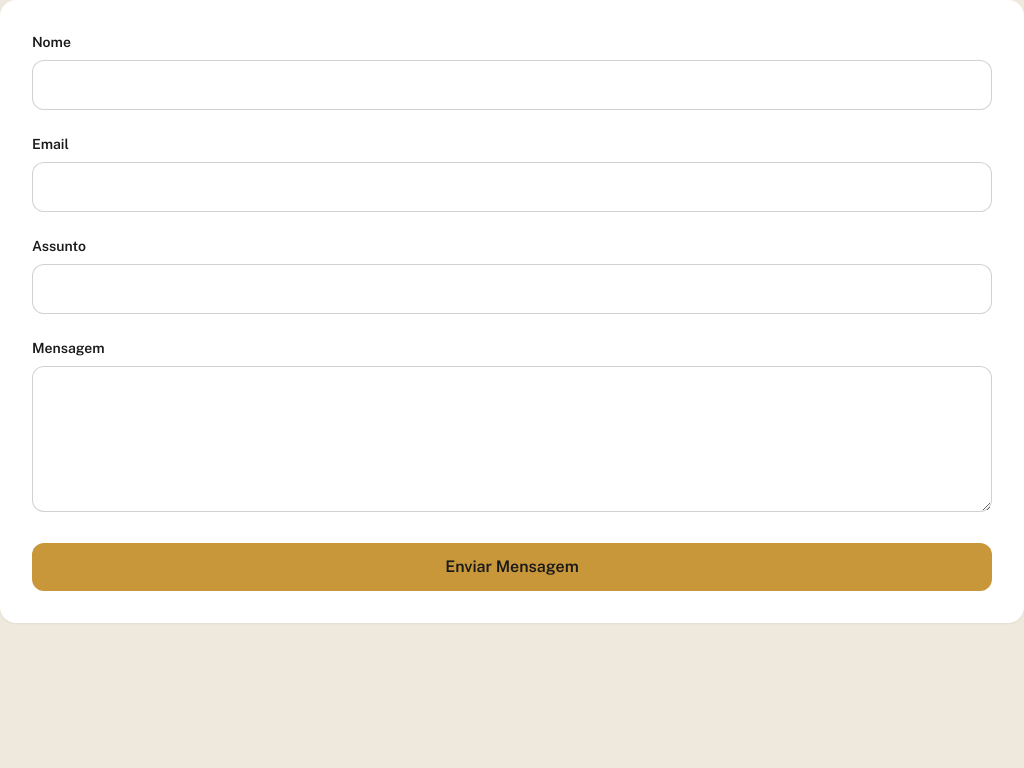
Test case: ContactForm › shows error message on failed submission
This screenshot has width=1024, height=768.
Type "Test User" into the field labelled "Nome".
click(512, 85); type("Test User")  # box x1=32 y1=60 x2=992 y2=110
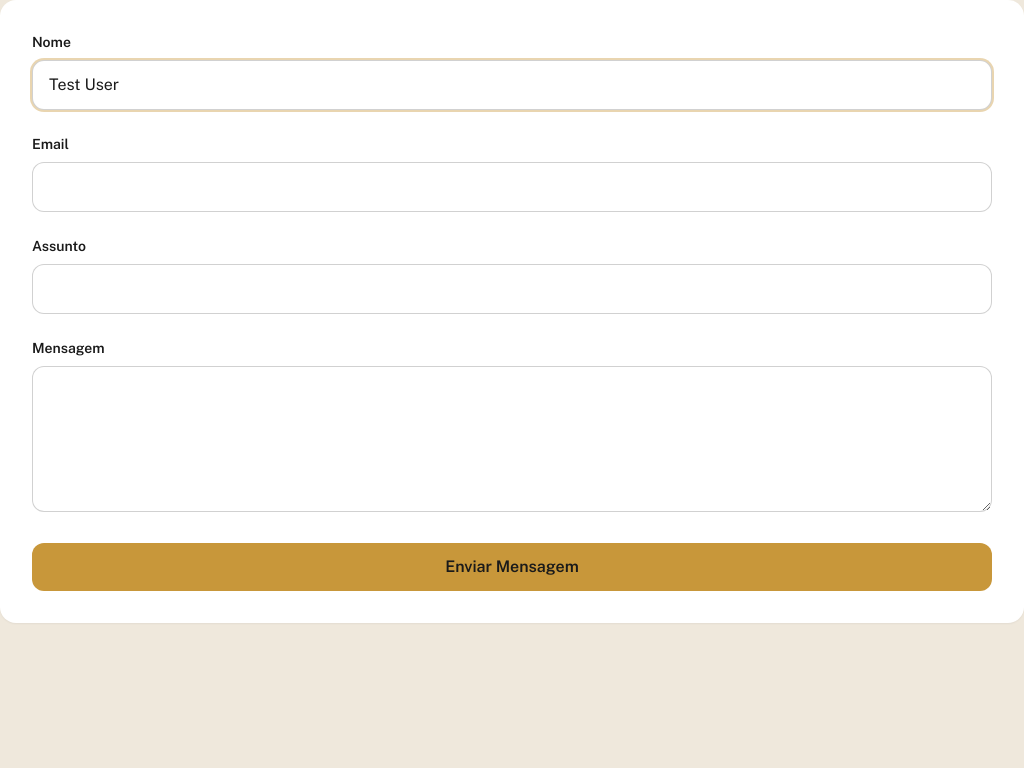
Type "test@example.com" into the field labelled "Email".
click(512, 187); type("test@example.com")  # box x1=32 y1=162 x2=992 y2=212
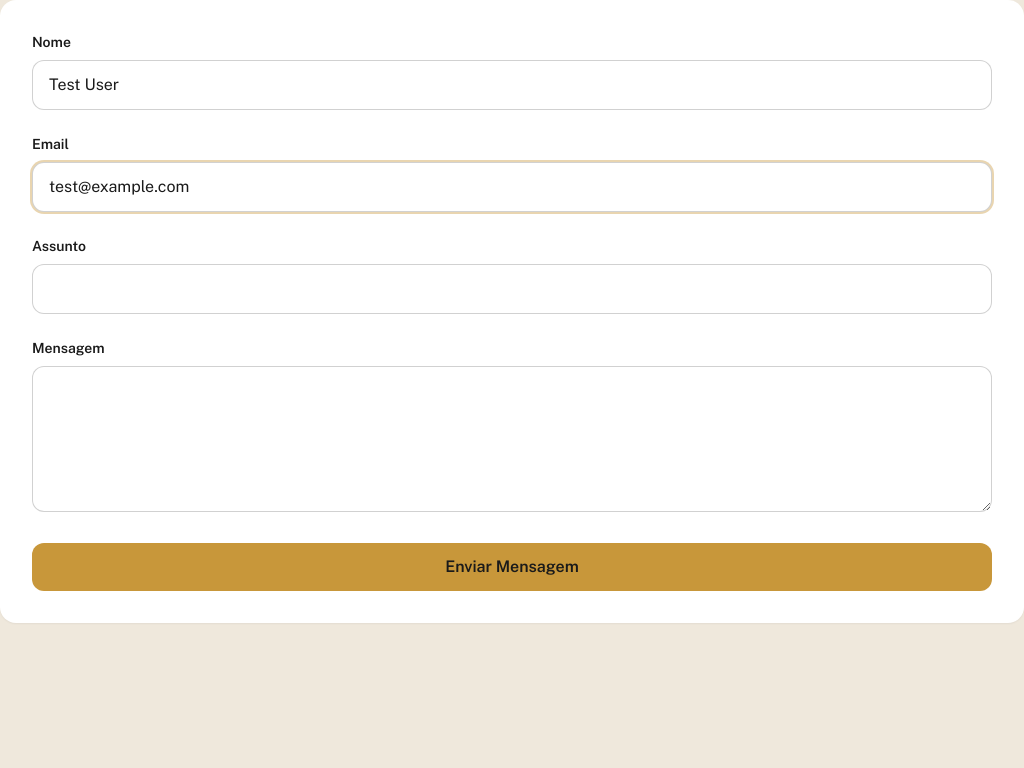
Type "Test Subject" into the field labelled "Assunto".
click(512, 289); type("Test Subject")  # box x1=32 y1=264 x2=992 y2=314
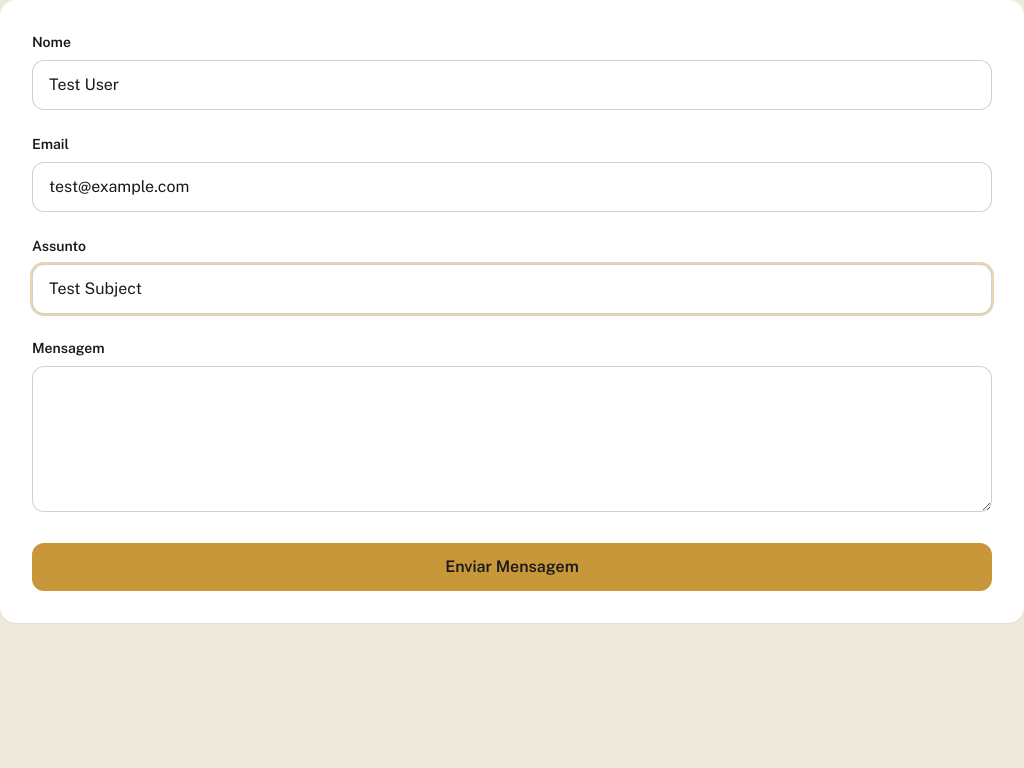
Type "Test message" into the text box labelled "Mensagem".
click(512, 439); type("Test message")  # box x1=32 y1=366 x2=992 y2=512
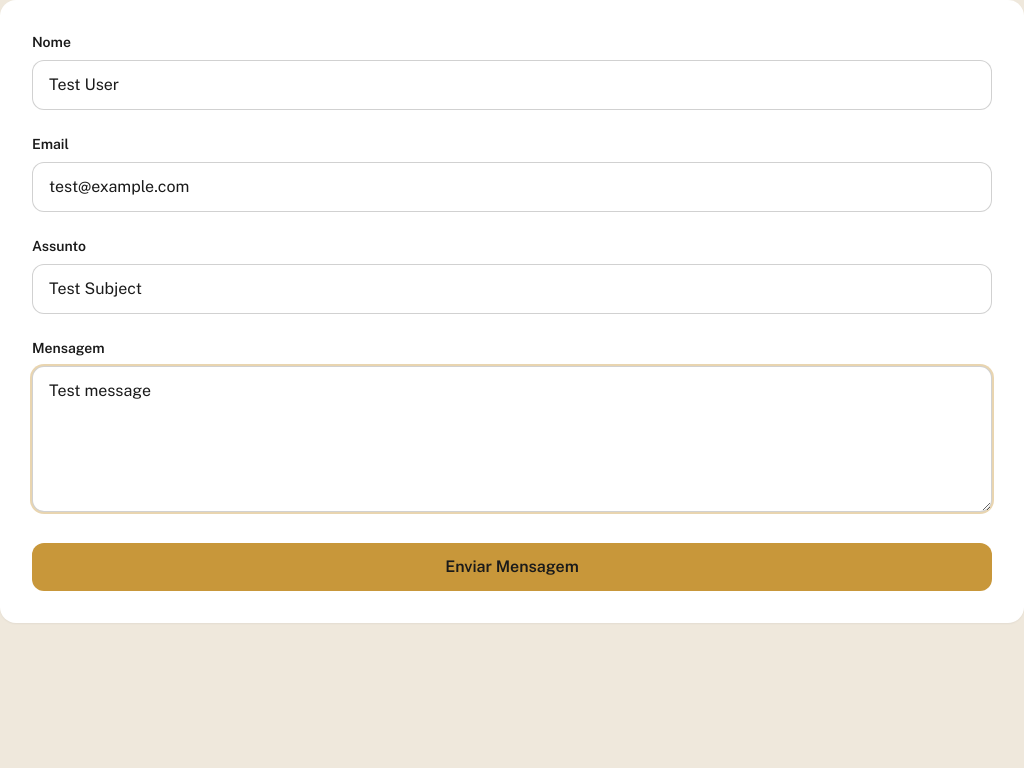
Click the button "Enviar Mensagem".
click(512, 567)  # box x1=32 y1=543 x2=992 y2=591
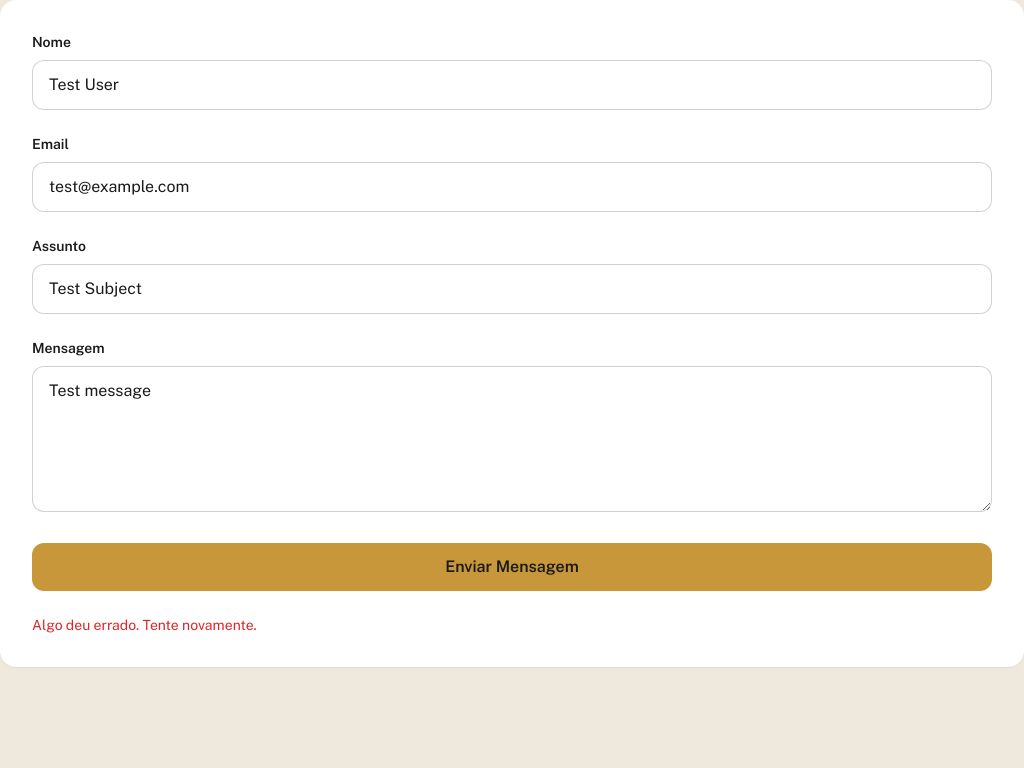
Check: the text "Algo deu errado. Tente novamente." is shown, box x1=32 y1=617 x2=257 y2=633
